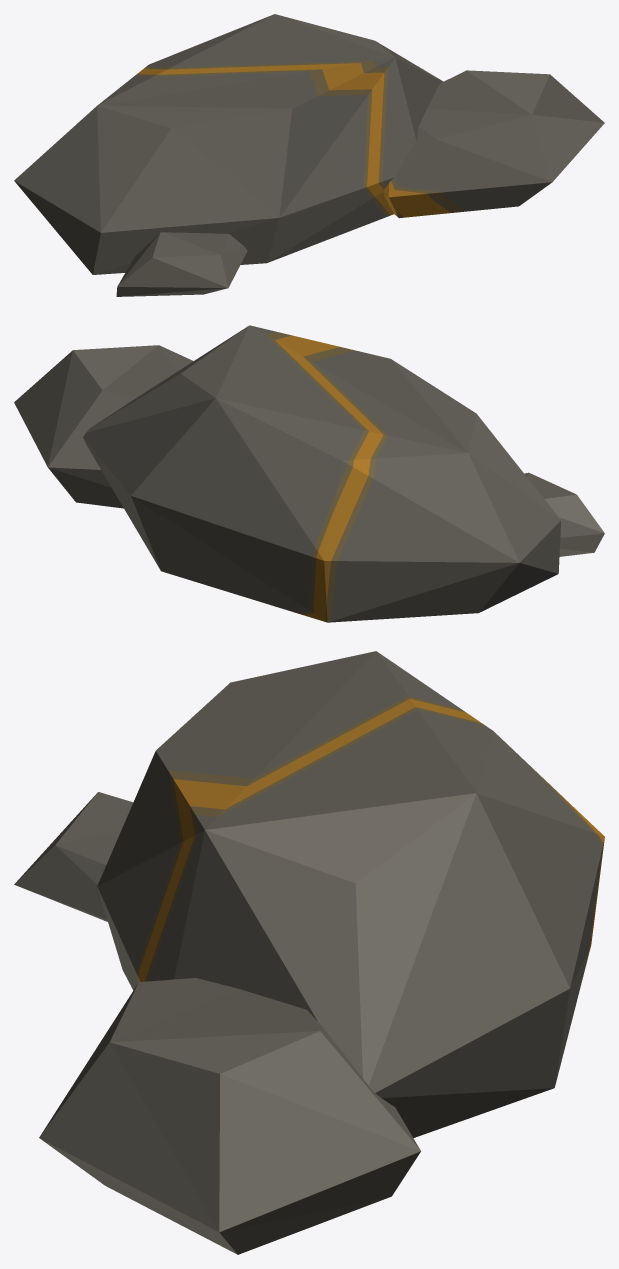
File: ore_gold_v01_lod0.glb
The picture shows the model from 3 angles, top to bottom: view 1: azimuth 30°, elevation 25°; view 2: azimuth 150°, elevation 25°; view 3: azimuth 270°, elevation 25°; orthographic projection. The views are drawn at different scales.
Visible parts, largest first — view 1: ore_gold_v01_lod0; view 2: ore_gold_v01_lod0; view 3: ore_gold_v01_lod0.
Part boxes in pixels (x1,y1,x2,y2): ore_gold_v01_lod0: (14,14,604,296); ore_gold_v01_lod0: (14,325,604,622); ore_gold_v01_lod0: (14,651,604,1254).
Size of the model in its own units: 3.23 by 0.8851 by 1.74.
